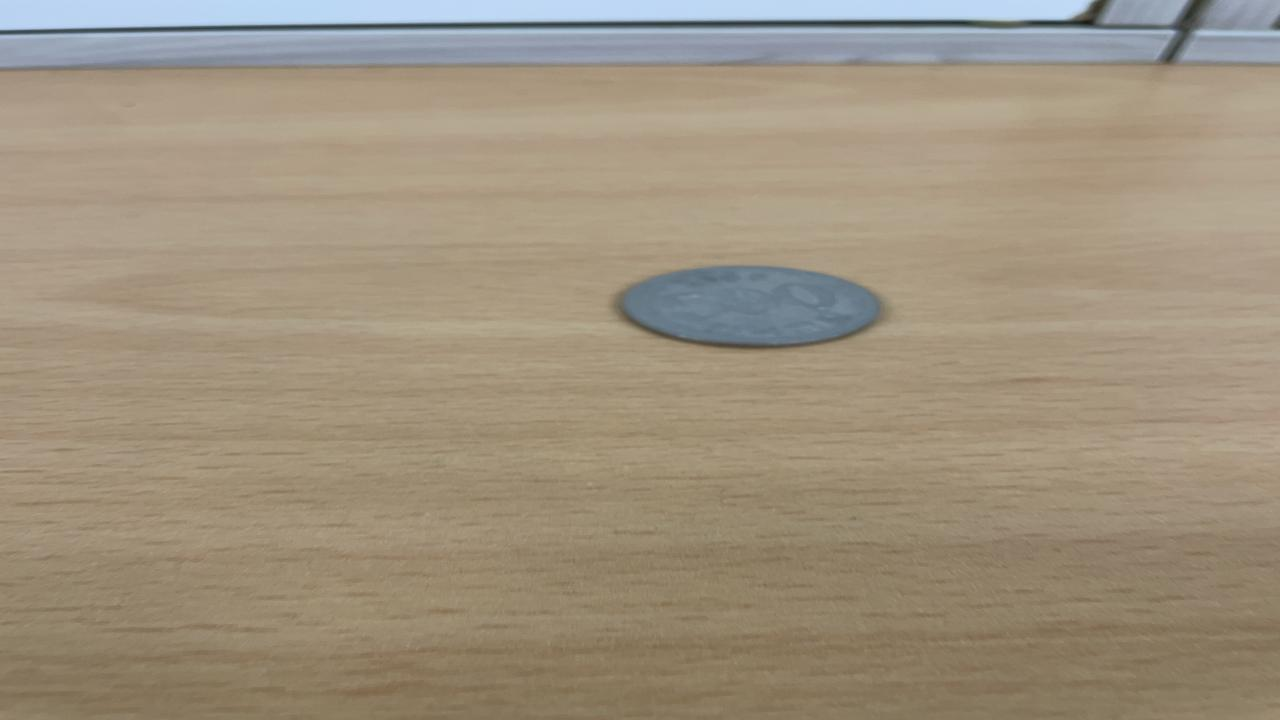coin: (618, 264, 882, 348)
